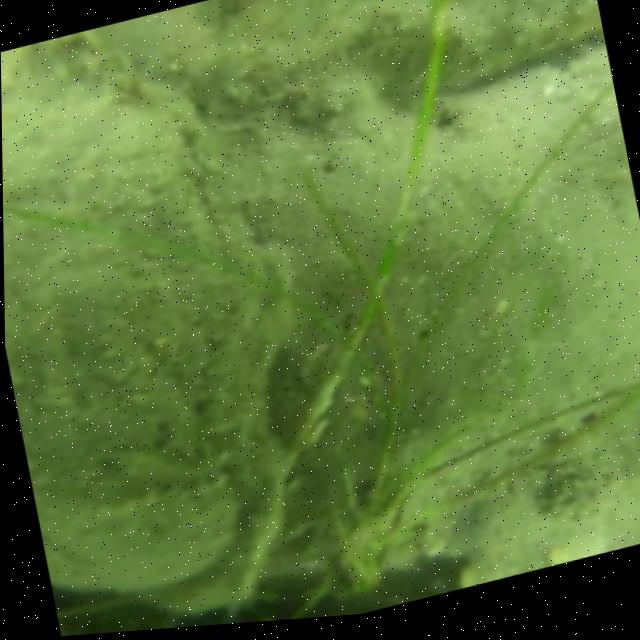Oyster-Indeterminate: (1, 35, 299, 597), (38, 466, 256, 586)
